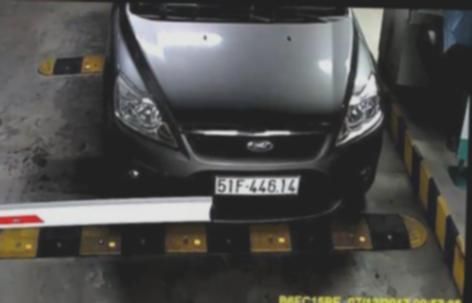License_Plate: (207, 173, 307, 200)
